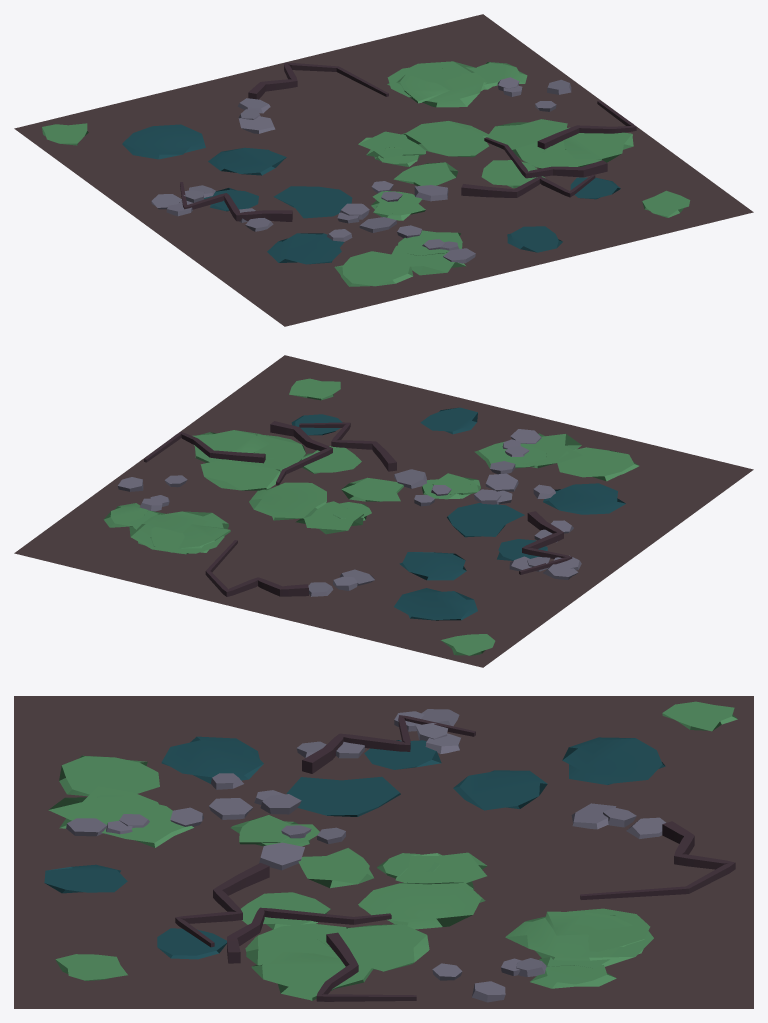
Rendered from SW_ENV_GroundTile.fbx.
3 views of the same model, one above another, from view 1: azimuth 30°, elevation 25°; view 2: azimuth 150°, elevation 25°; view 3: azimuth 270°, elevation 25° (orthographic). The views are drawn at different scales.
Parts seen in each view (by area): view 1: SW_ENV_GroundTile; view 2: SW_ENV_GroundTile; view 3: SW_ENV_GroundTile.
Part boxes in pixels (<box>): SW_ENV_GroundTile: <box>14,14,753,326</box>; SW_ENV_GroundTile: <box>14,355,753,667</box>; SW_ENV_GroundTile: <box>14,696,753,1008</box>.
Size of the model in its own units: 12 by 0.2402 by 12.
